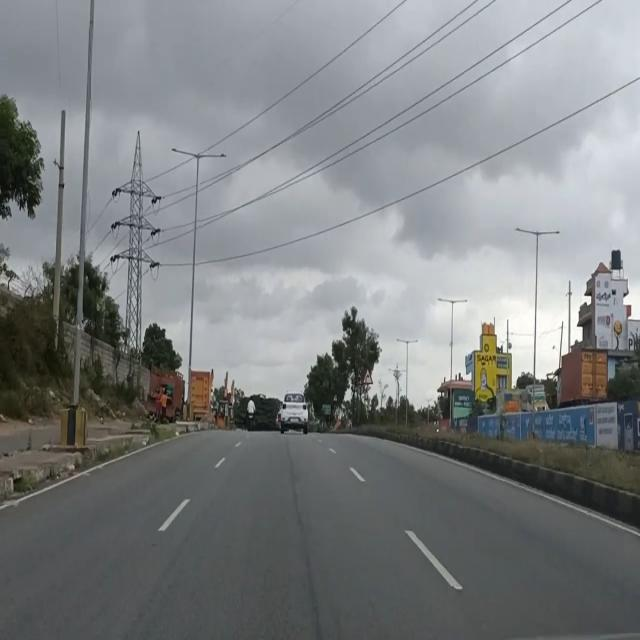bien_cam: (362, 365, 374, 387)
